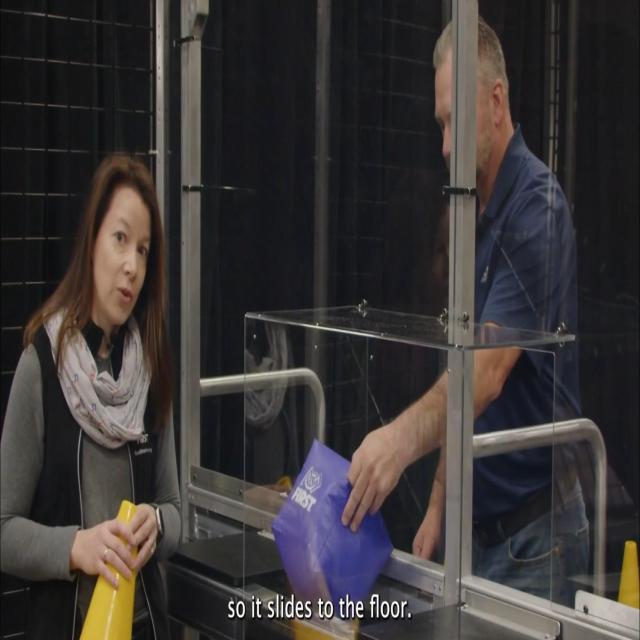frc_cone: (82, 497, 138, 640), (618, 535, 640, 611)
frc_cube: (273, 436, 392, 621)
